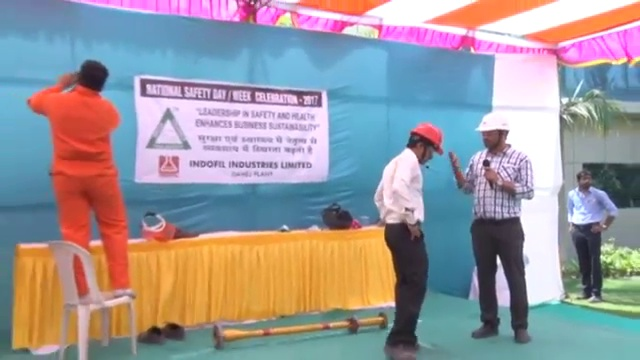helmet: (412, 121, 445, 156), (474, 111, 511, 134)
helmet_off: (75, 58, 109, 94), (575, 167, 592, 193)
helmet_on: (407, 120, 444, 165), (472, 112, 511, 151)
person: (26, 58, 137, 299), (445, 111, 537, 345), (367, 121, 447, 360), (562, 167, 621, 303)
